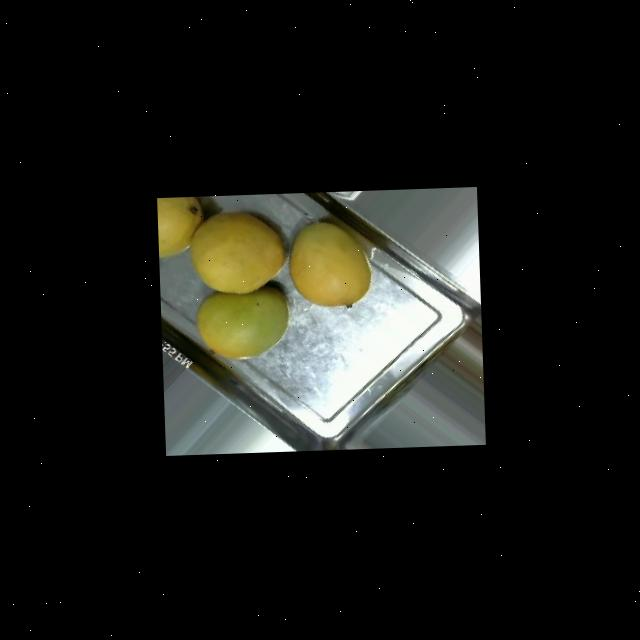Mango: (188, 210, 287, 296), (286, 218, 372, 309), (194, 284, 290, 360), (156, 196, 204, 258)
